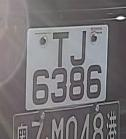3: (49, 68, 69, 107)
6: (30, 66, 51, 109), (84, 63, 103, 101)
8: (68, 66, 86, 104)
J: (69, 26, 89, 67)
T: (49, 27, 71, 69)
